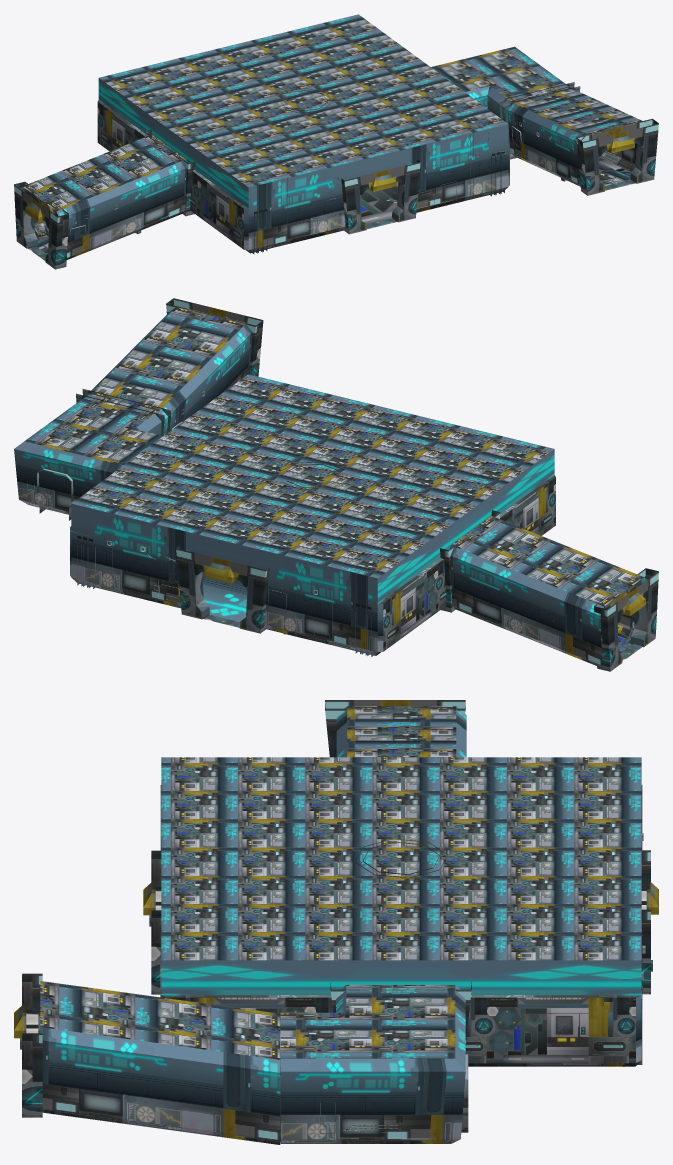
File: Combined_Mesh_root_scene__12_ac3e1c64__ZombiesII_laboratory_09_d_715a74b3_c1f257.obj
The picture shows the model from 3 angles, top to bottom: view 1: azimuth 30°, elevation 25°; view 2: azimuth 150°, elevation 25°; view 3: azimuth 270°, elevation 25°; orthographic projection. The views are drawn at different scales.
Bounding box in the file's own units: 78.61 × 13.91 × 53.73.
Materials: 273 (273 with a texture image).
